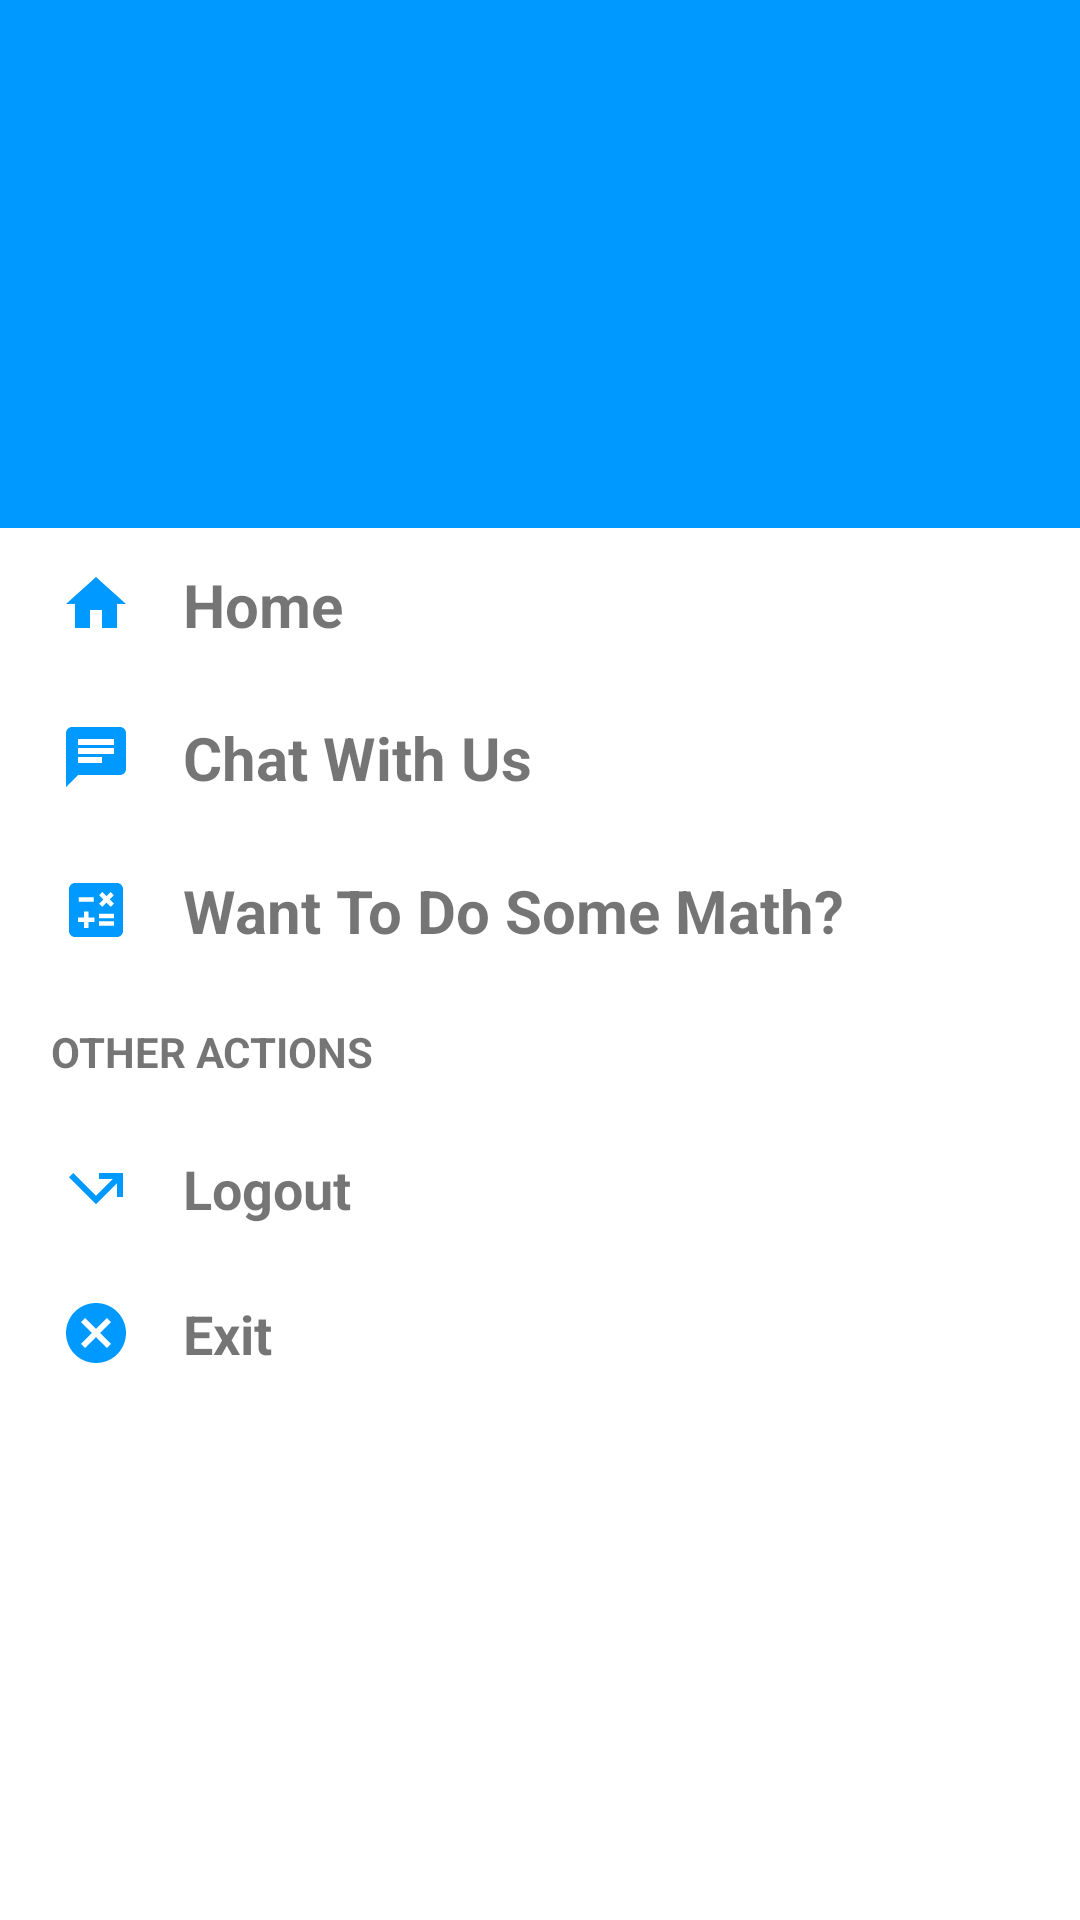

Screen size 1080w x 1920h. Icon name, then its center in pixels as (x,y):
calculate: (96,910)
